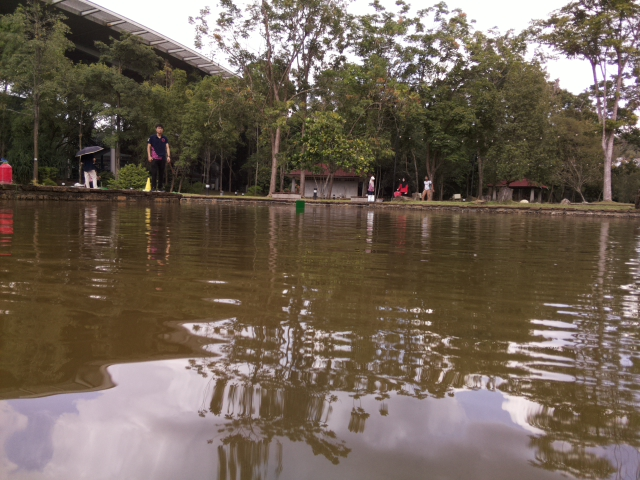checkpoint: (142, 176, 153, 191)
obstacle: (294, 200, 306, 207)
